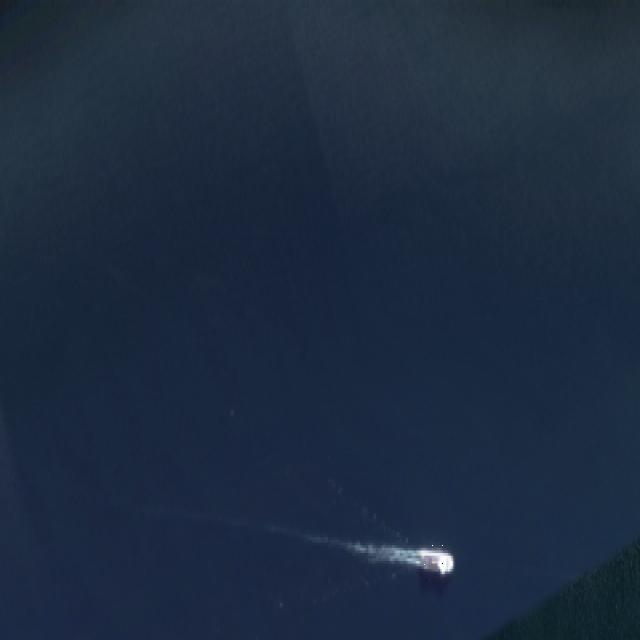boat: (414, 545, 454, 582)
